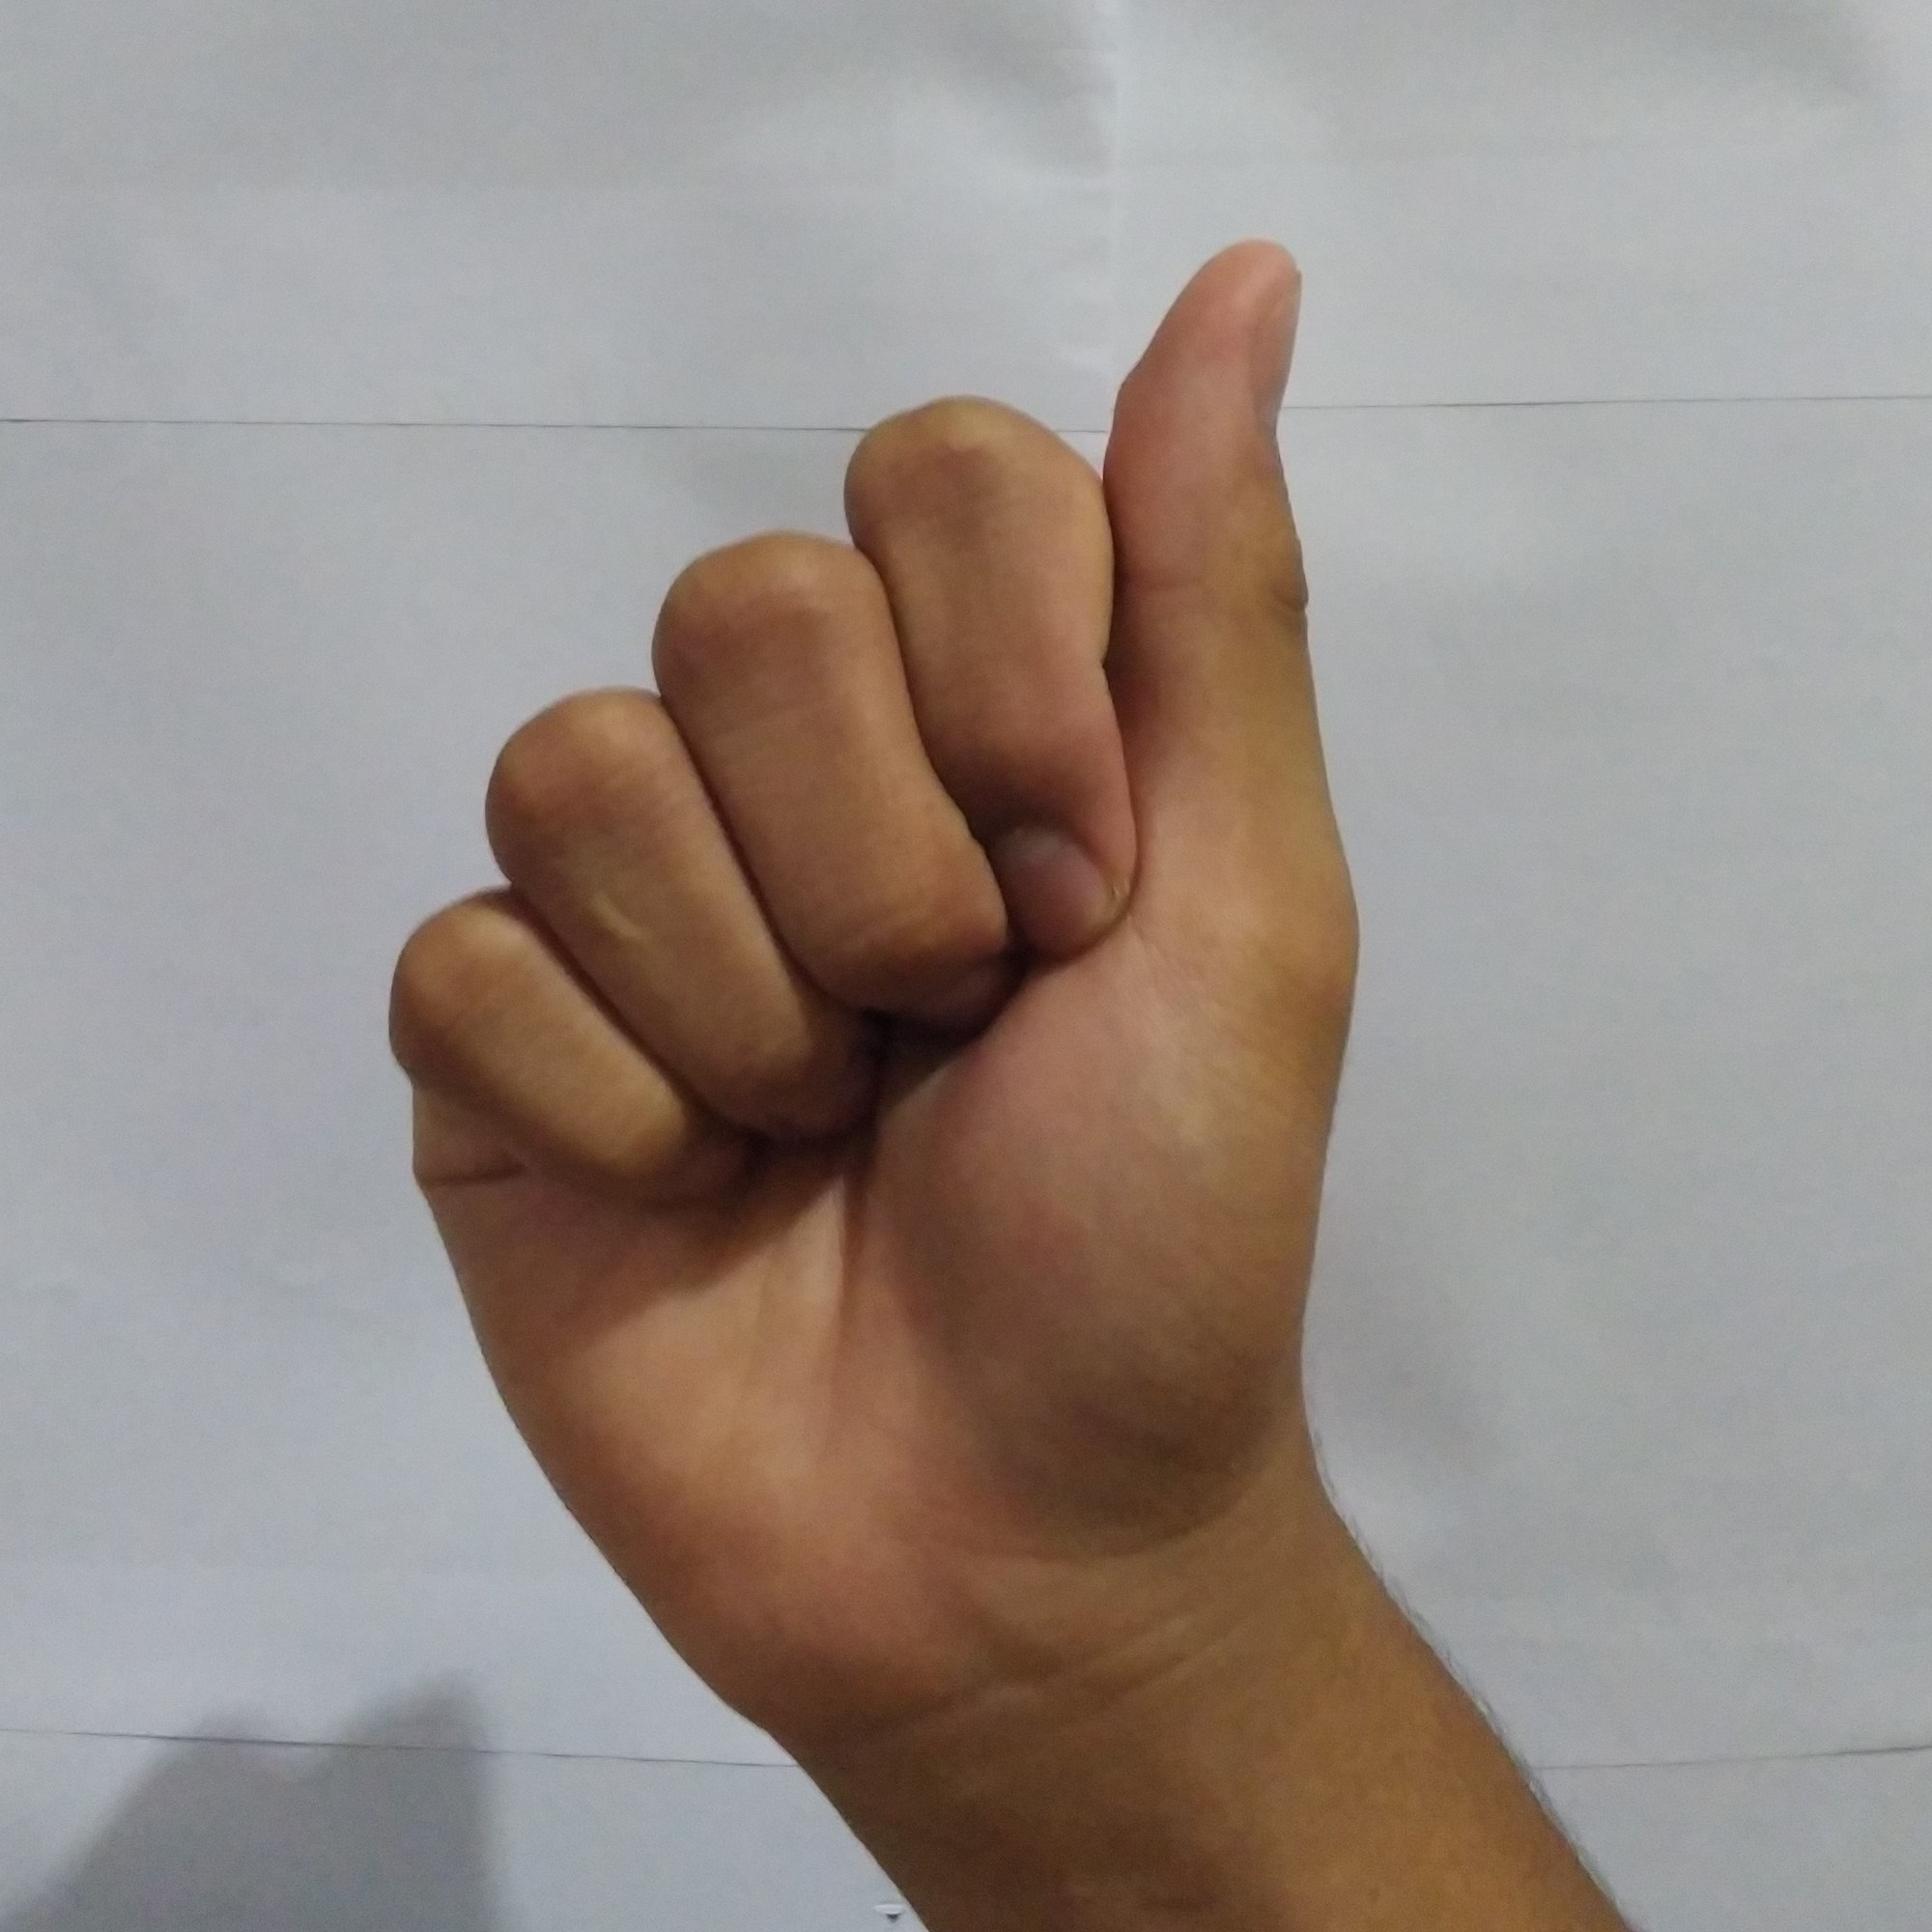A: (372, 226, 1373, 1594)
